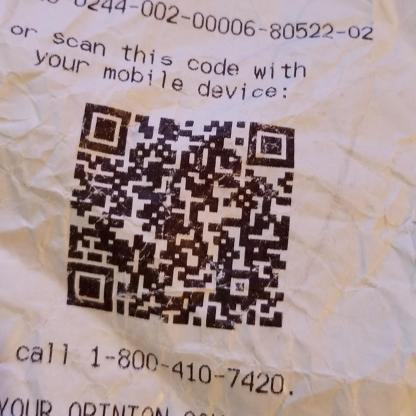qr: (61, 102, 302, 335)
